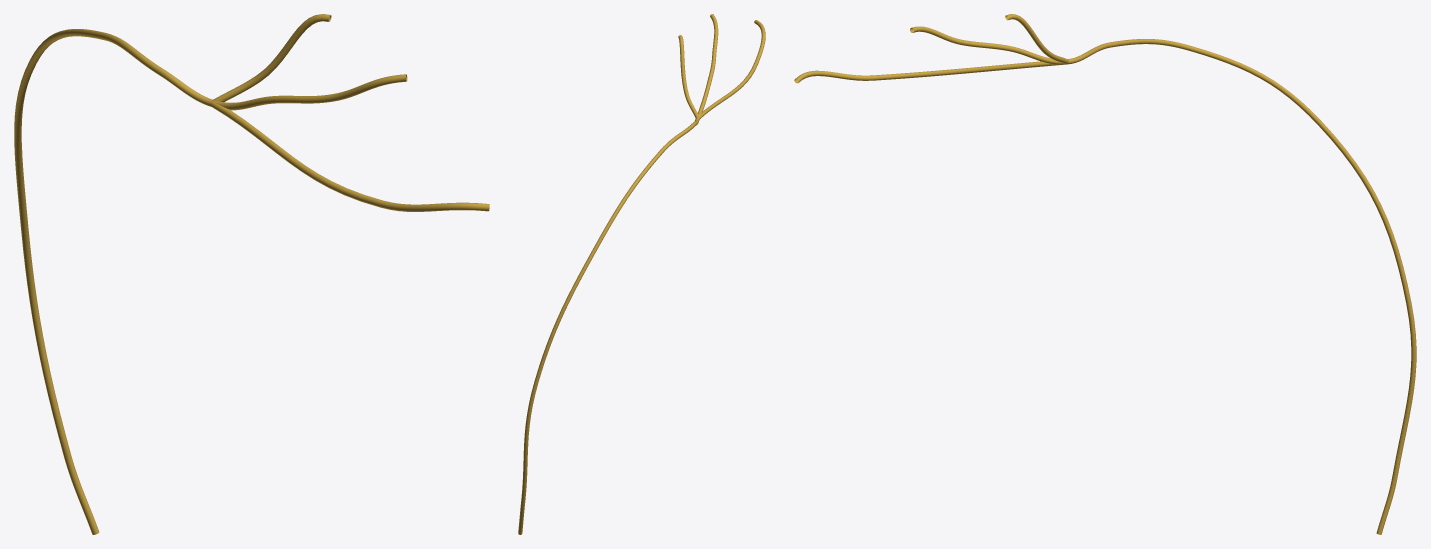
The picture shows the model from 3 angles, left to right: view 1: azimuth 30°, elevation 25°; view 2: azimuth 150°, elevation 25°; view 3: azimuth 270°, elevation 25°; orthographic projection. The views are drawn at different scales.
Parts seen in each view (by area): view 1: 右侧阴部神经; view 2: 右侧阴部神经; view 3: 右侧阴部神经.
Part boxes in pixels (x1,y1,x2,y2): 右侧阴部神经: (14,14,489,534); 右侧阴部神经: (518,14,765,534); 右侧阴部神经: (794,14,1416,534).
Size of the model in its own units: 0.03 by 0.1548 by 0.1712.
